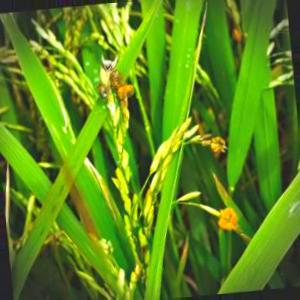Leaf_Scald: (214, 204, 246, 234), (113, 71, 134, 107)
